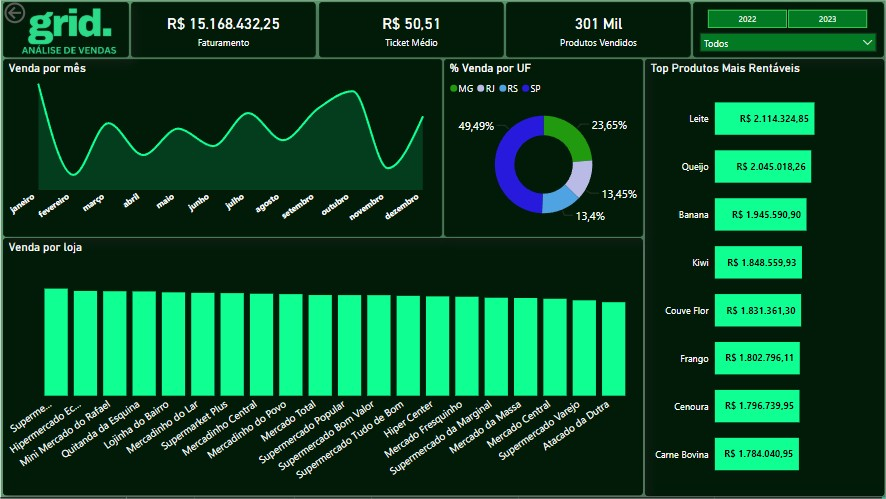

The dashboard page shown, as its layout file describes it:
{"tool":"powerbi","page":{"name":"Dashboard","canvas":[1280,720],"ordinal":1},"visuals":[{"type":"card","fields":{"Values":["Medidas.TotalDaVenda"]},"box":[188.5,4.3,267.5,79.5],"z":0},{"type":"clusteredBarChart","title":"Top Produtos Mais Rentáveis","fields":{"Category":["Vendas_de_Supermercado_no_Brasi.Nome do Produto"],"Y":["Medidas.VendaTotal"]},"box":[931,86.5,346,631.9],"z":1000},{"type":"card","fields":{"Values":["Medidas.TicketMédio"]},"box":[459.2,4.5,267.5,79.5],"z":2000},{"type":"card","fields":{"Values":["Medidas.QuantidadeProdutos"]},"box":[729.8,4.7,267.5,79.5],"z":3000},{"type":"card","fields":{"Values":["Medidas.QuantidadeProdutos"]},"box":[1000.5,4.8,276,79.5],"z":4000},{"type":"lineStackedColumnComboChart","title":"Venda por loja","fields":{"Category":["Vendas_de_Supermercado_no_Brasi.Nome da Loja"],"Y":["Medidas.VendaTotal"]},"box":[3.3,345.6,925,372],"z":5000},{"type":"lineChart","title":"Venda por mês","fields":{"Category":["Vendas_de_Supermercado_no_Brasi.DataVenda.Variation.Hierarquia de datas.Mês"],"Y":["Medidas.VendaTotal"]},"box":[3,86.5,635,257.4],"z":6000},{"type":"slicer","fields":{"Values":["Vendas_de_Supermercado_no_Brasi.DataVenda.Variation.Hierarquia de datas.Ano"]},"box":[996.7,8.3,280,35],"z":7000},{"type":"donutChart","title":"% Venda por UF","fields":{"Y":["Medidas.VendaTotal"],"Series":["Vendas_de_Supermercado_no_Brasi.UF da Compra"]},"box":[640.5,86.7,288,257.3],"z":8000},{"type":"slicer","fields":{"Values":["Vendas_de_Supermercado_no_Brasi.Nome da Loja"]},"box":[1000,38.3,275,45],"z":9000},{"type":"card","fields":{"Values":["Medidas.QuantidadeProdutos"]},"box":[3.3,5,182,80],"z":10000},{"type":"image","box":[13.3,8.3,171.7,86.7],"z":11000},{"type":"actionButton","box":[0,0,100,40],"z":12000}]}

Visuals, with their boxes in screenshot pixels (x1, y1, x2, y2), scaled from the page's 1280x720 canvas onto the 886x499 screenshot:
card - Medidas.TotalDaVenda: region(130, 3, 316, 58)
"Top Produtos Mais Rentáveis" clusteredBarChart: region(644, 60, 884, 498)
card - Medidas.TicketMédio: region(318, 3, 503, 58)
card - Medidas.QuantidadeProdutos: region(505, 3, 690, 58)
card - Medidas.QuantidadeProdutos: region(693, 3, 884, 58)
"Venda por loja" lineStackedColumnComboChart: region(2, 240, 643, 497)
"Venda por mês" lineChart: region(2, 60, 442, 238)
slicer - Vendas_de_Supermercado_no_Brasi.DataVenda.Variation.Hierarquia de datas.Ano: region(690, 6, 884, 30)
"% Venda por UF" donutChart: region(443, 60, 643, 238)
slicer - Vendas_de_Supermercado_no_Brasi.Nome da Loja: region(692, 27, 883, 58)
card - Medidas.QuantidadeProdutos: region(2, 3, 128, 59)
image: region(9, 6, 128, 66)
actionButton: region(0, 0, 69, 28)
